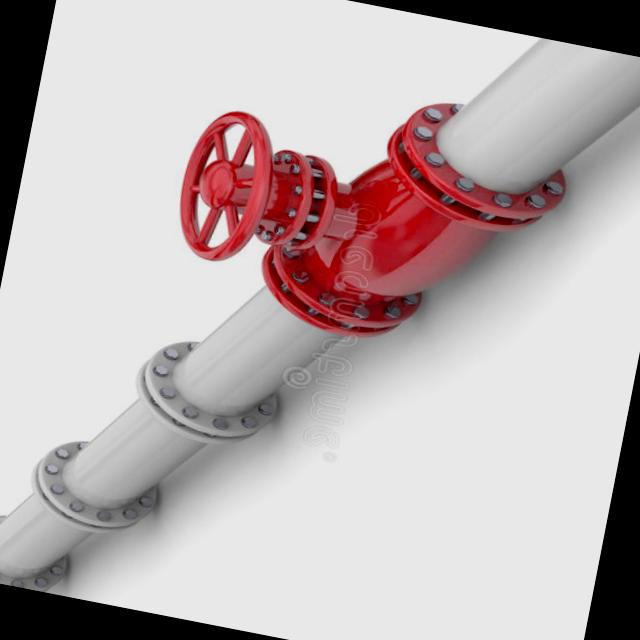gas: (0, 37, 640, 588)
